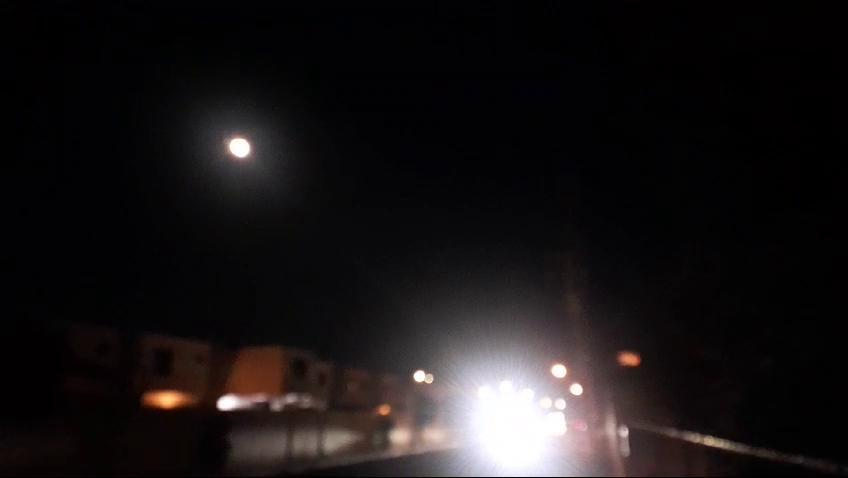moon: (232, 134, 256, 160)
